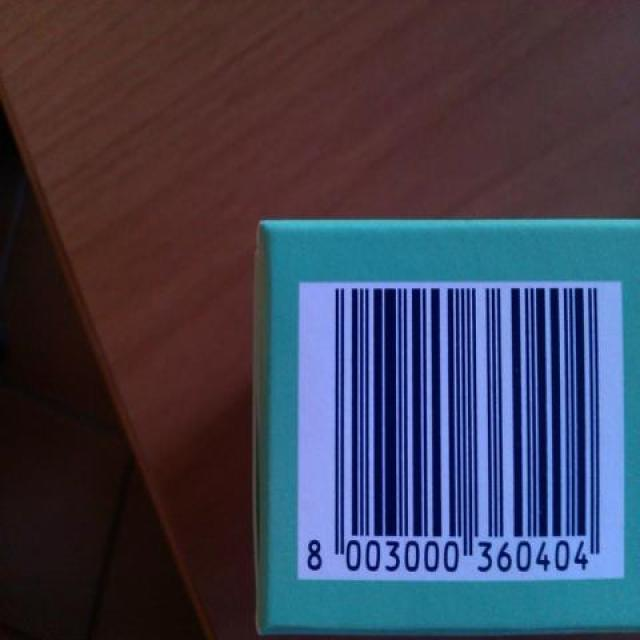Barcode: (297, 283, 624, 577)
